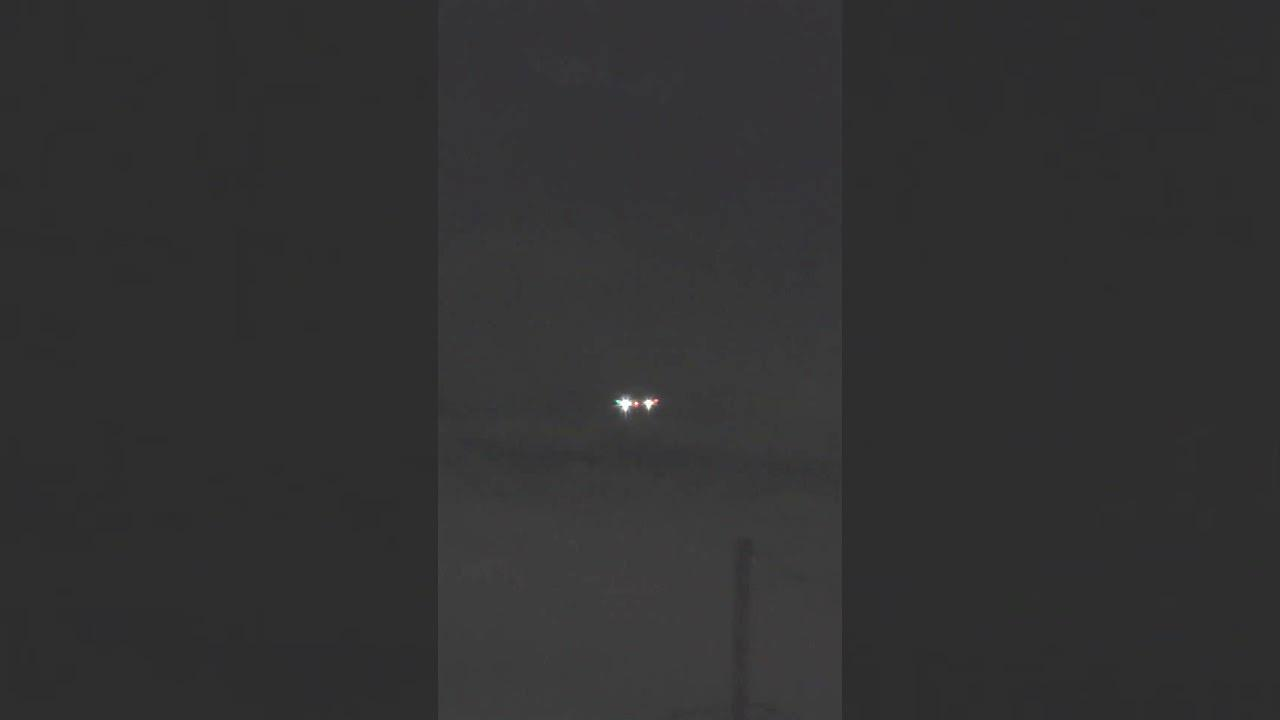Plane: (581, 379, 688, 430)
